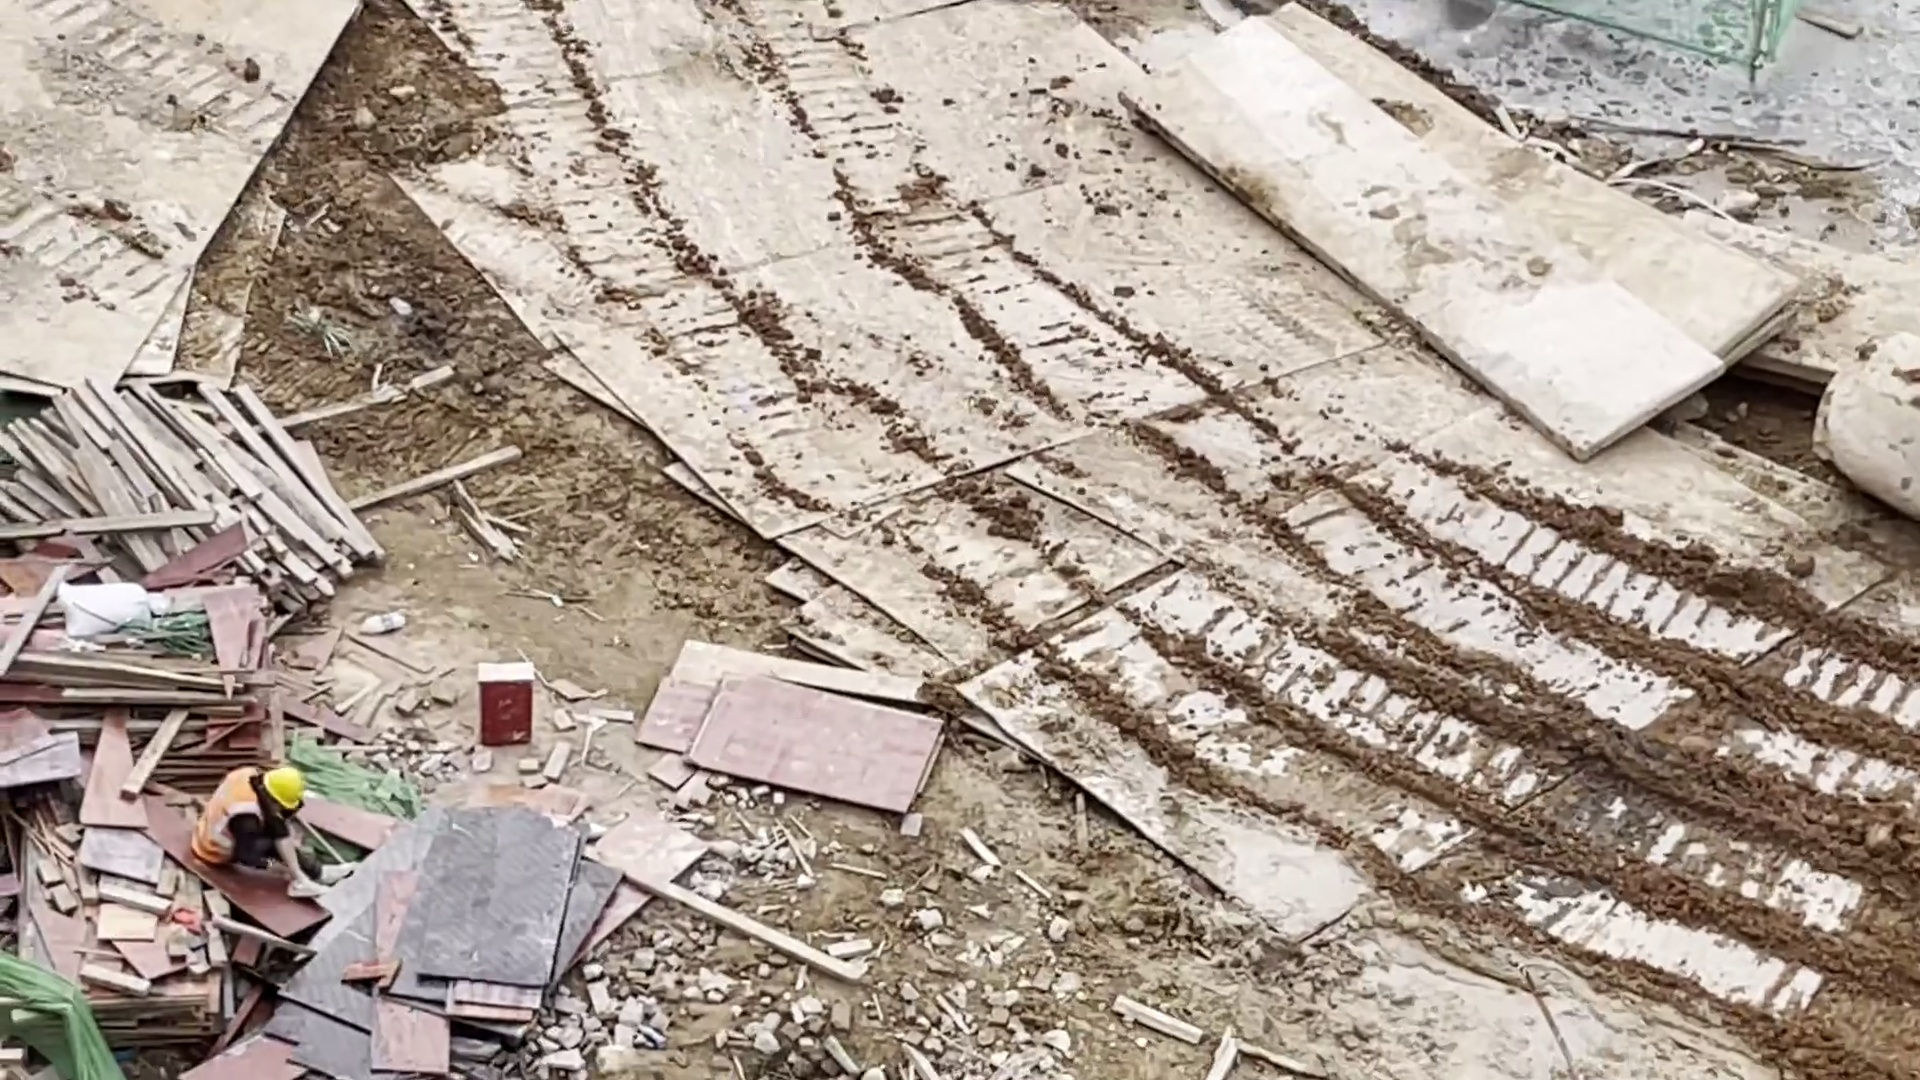helmet: (256, 762, 306, 812)
person: (190, 761, 356, 906)
vest: (199, 770, 265, 862)
